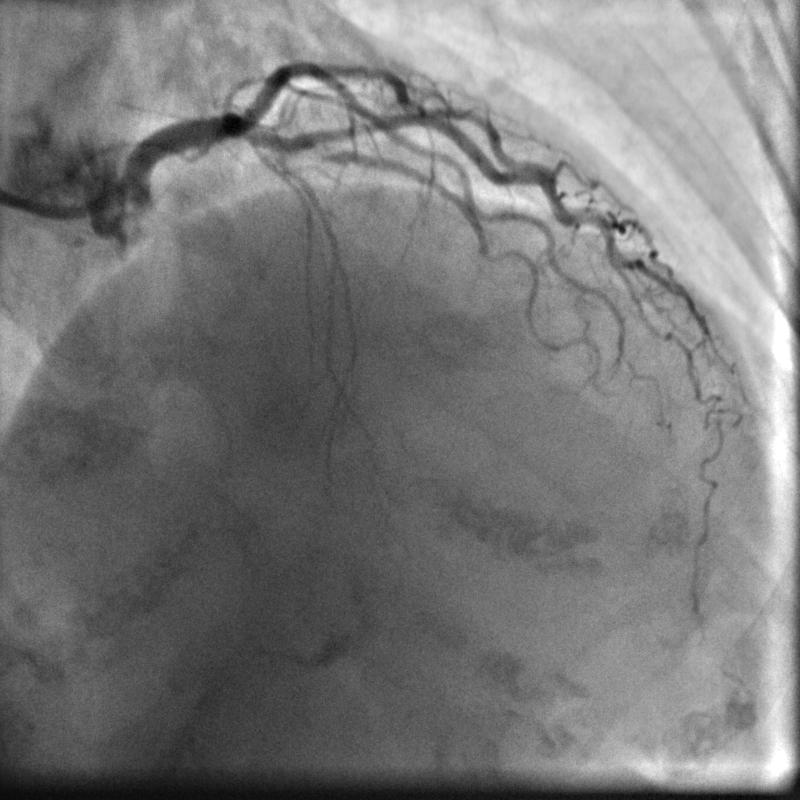Stenosis: (315, 144, 342, 164)
